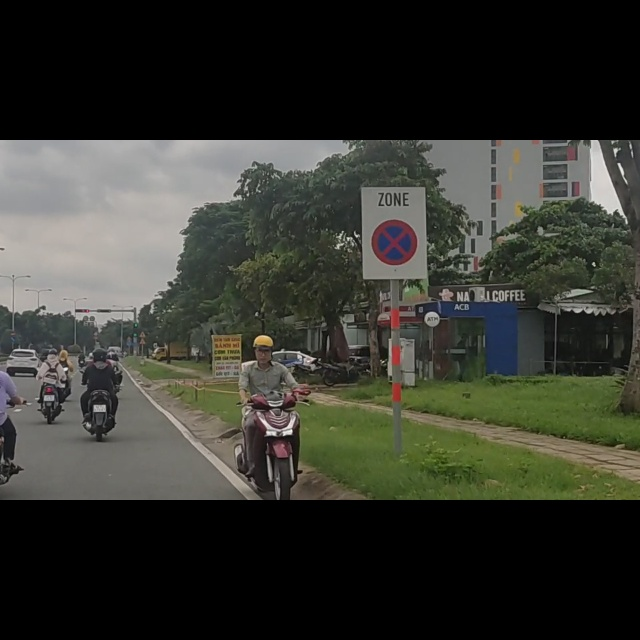bien_cam: (371, 142, 418, 223), (10, 340, 16, 350), (10, 350, 16, 359)
